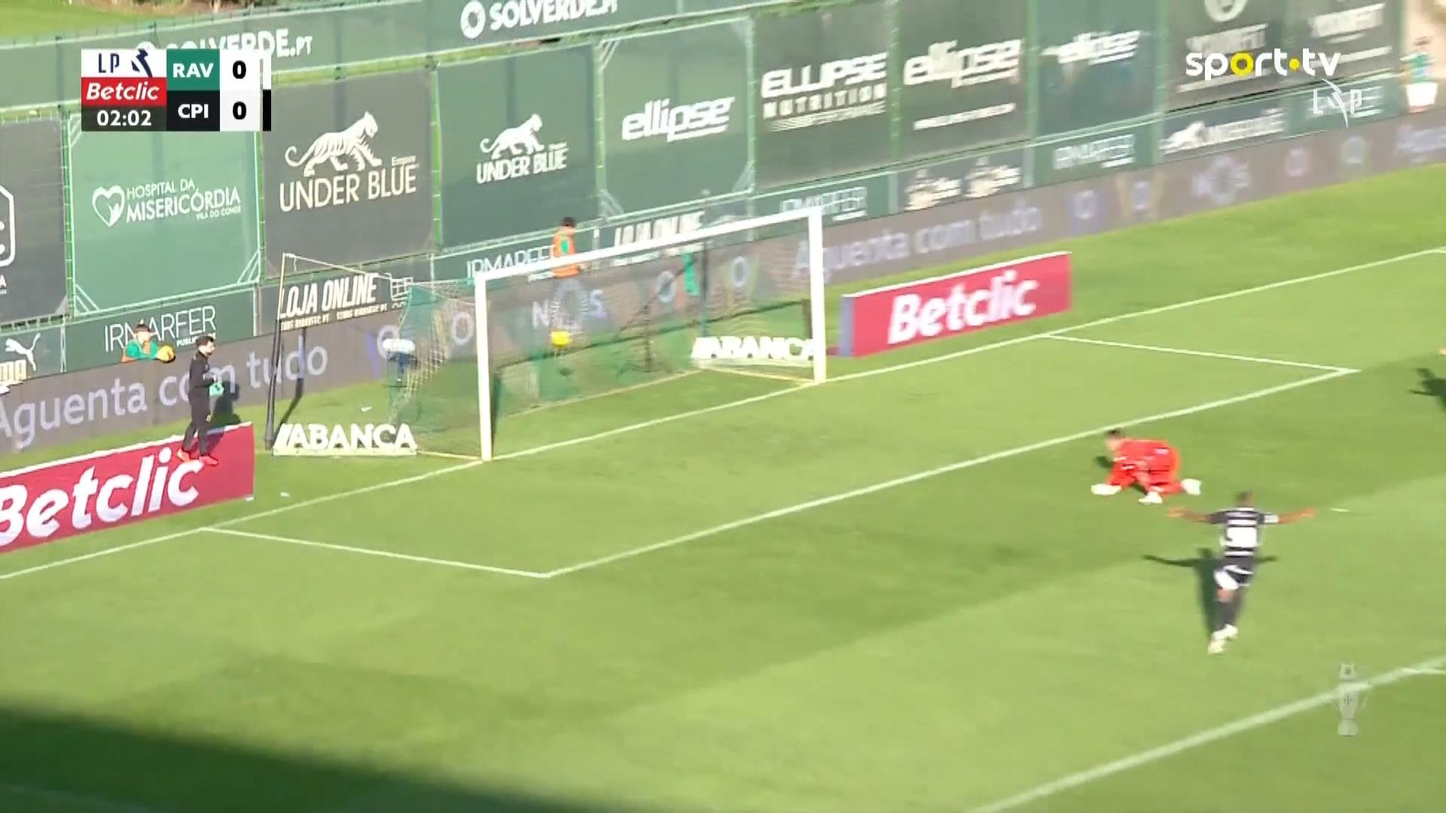ball: (549, 329, 571, 347)
goalkeeper: (1089, 426, 1202, 505)
player: (1165, 487, 1316, 655)
